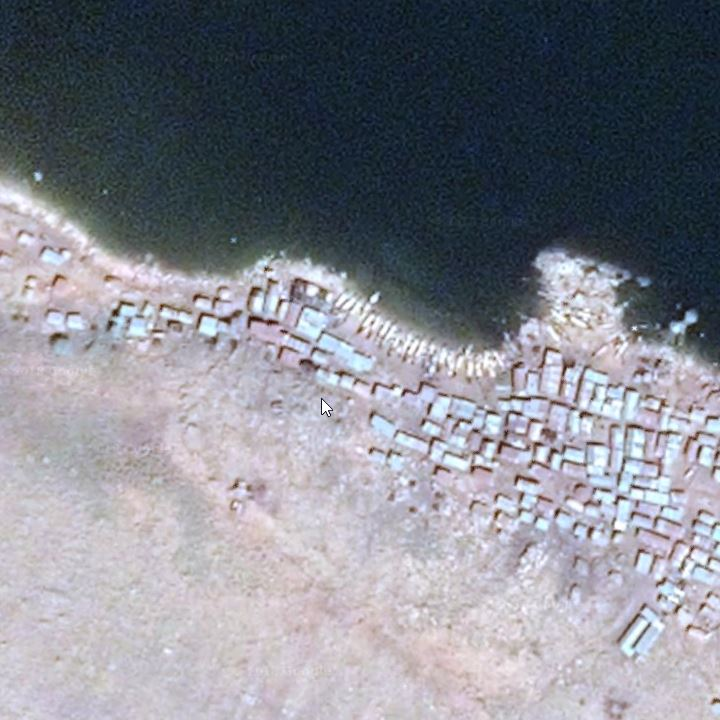boat: (331, 282, 352, 315), (563, 313, 594, 334), (543, 324, 568, 348), (373, 315, 391, 348), (610, 341, 635, 364), (401, 332, 417, 367), (418, 339, 435, 370), (366, 313, 383, 343), (380, 323, 398, 351), (603, 336, 627, 356), (552, 321, 576, 341), (357, 308, 374, 336), (436, 341, 450, 374), (350, 293, 365, 322), (428, 345, 442, 375), (591, 341, 612, 361), (473, 351, 486, 383), (546, 305, 569, 323), (340, 291, 357, 315), (450, 351, 465, 378), (485, 351, 499, 379), (412, 339, 427, 364), (445, 348, 456, 377), (465, 351, 473, 384)
